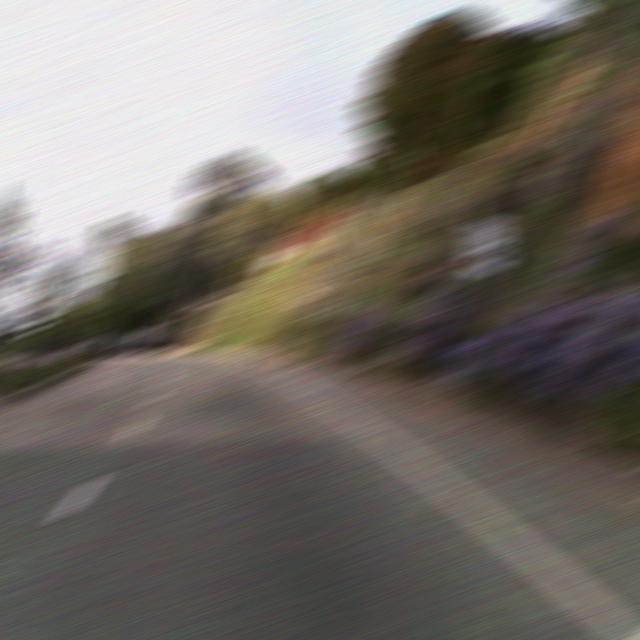speedLimit40: (464, 218, 509, 274)
